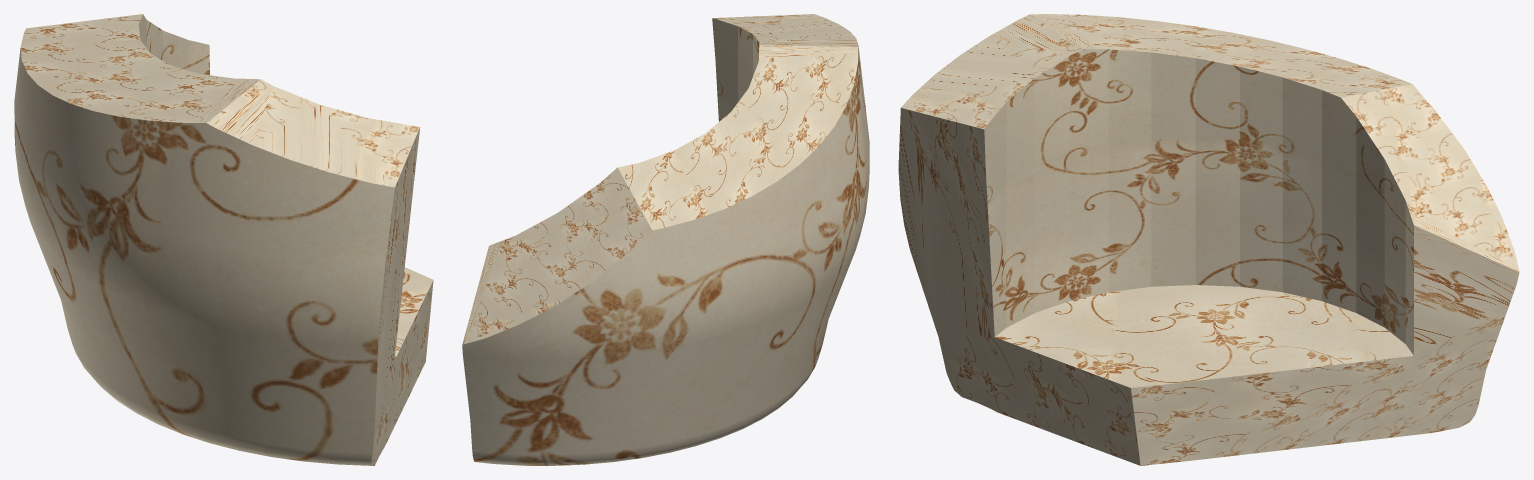
3 renders of one model, left to right at view 1: azimuth 30°, elevation 25°; view 2: azimuth 150°, elevation 25°; view 3: azimuth 270°, elevation 25°, orthographic. The views are drawn at different scales.
Visible parts, largest first — view 1: Cylinder_cell.003; view 2: Cylinder_cell.003; view 3: Cylinder_cell.003.
Boxes of the visible parts, bbox=[...] form: Cylinder_cell.003: bbox=[14, 14, 433, 465]; Cylinder_cell.003: bbox=[462, 14, 869, 465]; Cylinder_cell.003: bbox=[898, 14, 1519, 465].
Bounding box in the file's own units: 1.02 × 1.02 × 1.76.
Materials: 1 (1 with a texture image).
